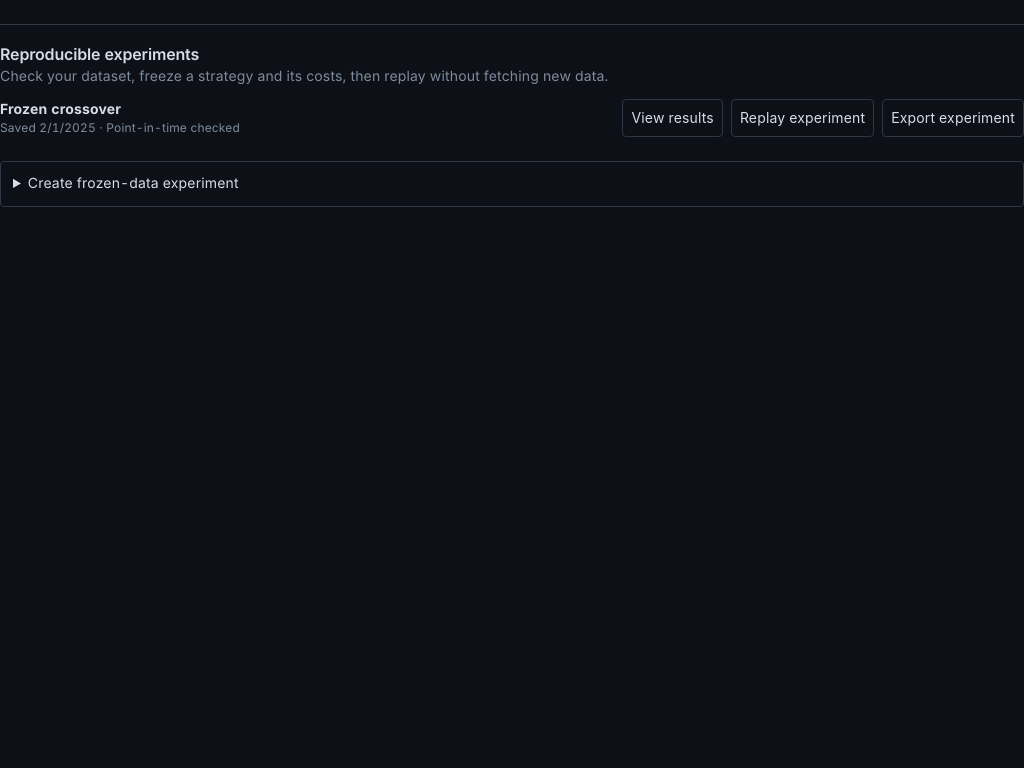
it: saved experiment comparison › loads the selected snapshot and displays measured periods and provenance
Click the button with aria-label "View results for Frozen crossover" at (673, 118), box [622, 99, 723, 137]
(page scrolled)
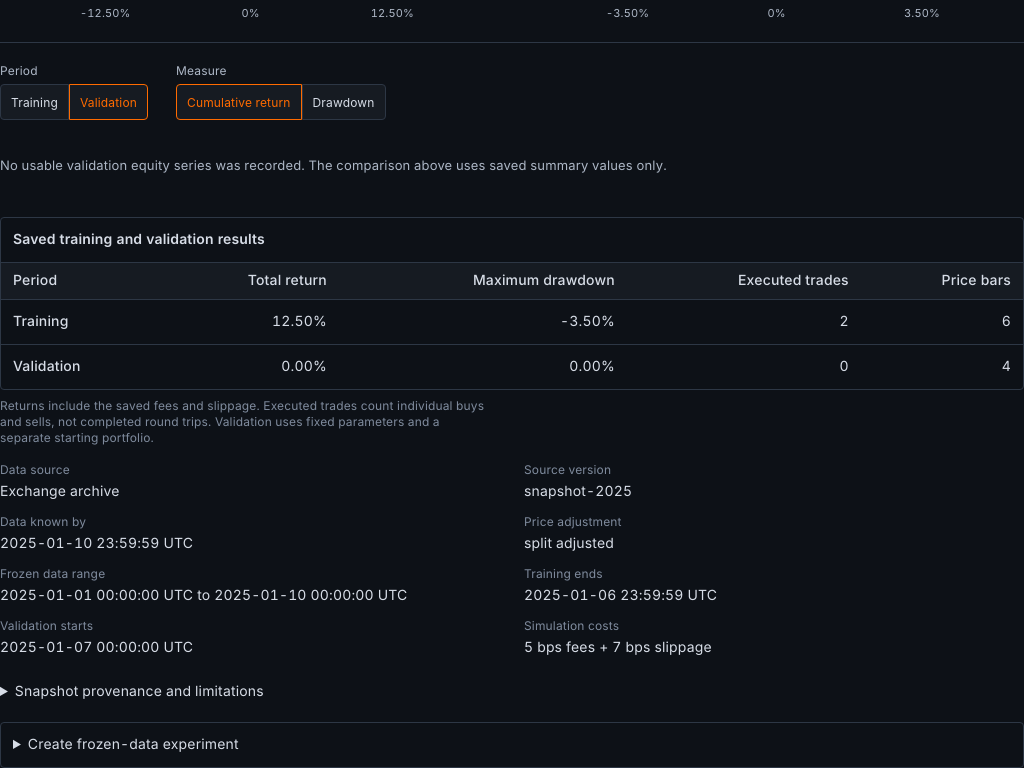
Result: the row "Training 12.50% -3.50% 2 6" is shown at [1, 300, 1023, 345]
Result: the text "0.00%" is shown 2 times at [160, 345, 339, 389]; [339, 345, 627, 389]
Result: the text "0" is shown at [627, 345, 861, 389]
